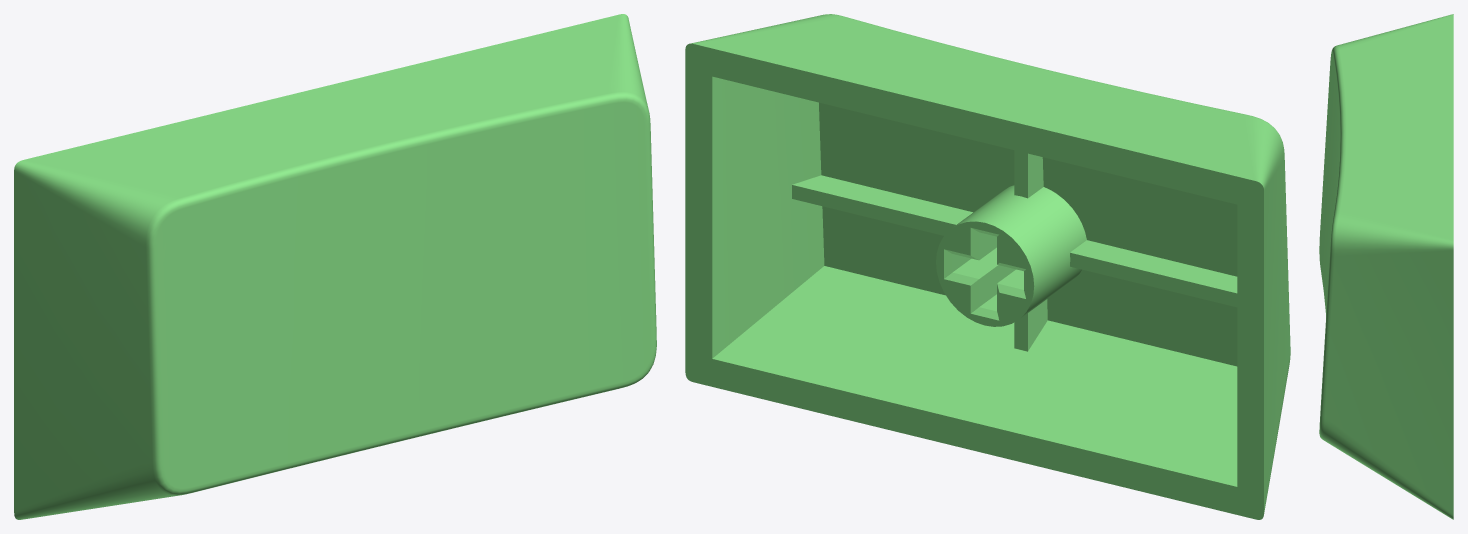
3 renders of one model, left to right at view 1: azimuth 30°, elevation 25°; view 2: azimuth 150°, elevation 25°; view 3: azimuth 270°, elevation 25°, orthographic. The views are drawn at different scales.
Visible parts, largest first — view 1: R2_1.75u.001; view 2: R2_1.75u.001; view 3: R2_1.75u.001.
Part boxes in pixels (x1=…): R2_1.75u.001: x1=14, y1=14, x2=656, y2=519; R2_1.75u.001: x1=685, y1=14, x2=1290, y2=519; R2_1.75u.001: x1=1319, y1=14, x2=1453, y2=519.
Size of the model in its own units: 0.0324 by 0.0181 by 0.0079.
